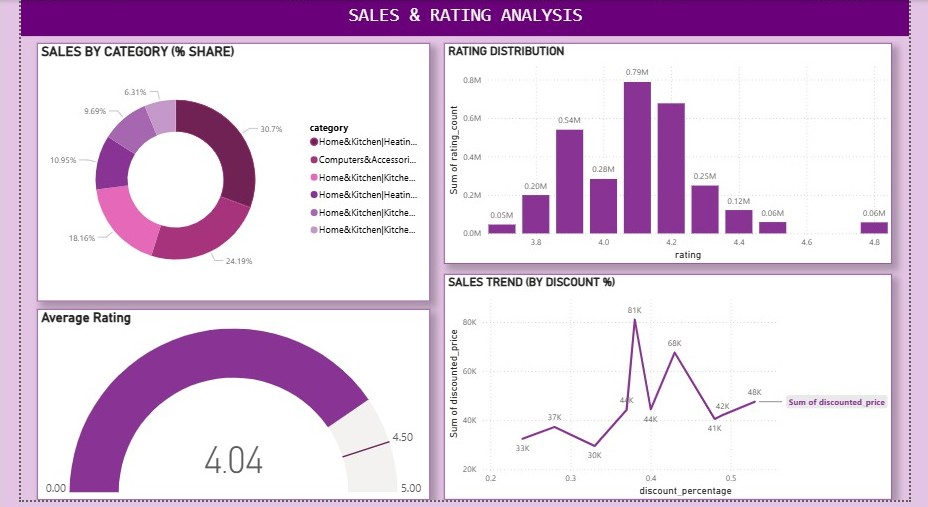

This screenshot's page, from the dashboard's own definition file:
{"tool":"powerbi","page":{"name":"Page 2","canvas":[1280,720],"ordinal":1},"visuals":[{"type":"lineChart","title":"SALES TREND (BY DISCOUNT %)","fields":{"Y":["Sum(amazon_sales csv.discounted_price)"],"Category":["amazon_sales csv.discount_percentage"]},"box":[609.1,394.6,645.1,325.4],"z":0},{"type":"clusteredColumnChart","title":"RATING DISTRIBUTION","fields":{"Category":["amazon_sales csv.rating"],"Y":["Sum(amazon_sales csv.rating_count)"]},"box":[609.1,61.9,645.1,318.2],"z":1000},{"type":"donutChart","title":"SALES BY CATEGORY (% SHARE)","fields":{"Category":["amazon_sales csv.category"],"Y":["Avg(amazon_sales csv.actual_price)"]},"box":[23,61.9,565.9,371.5],"z":2000},{"type":"gauge","fields":{"Y":["amazon_sales csv.Average Rating"]},"box":[23,445,565.9,275],"z":3000},{"type":"textbox","box":[0,0,1280.2,51.8],"z":4000}]}

Visuals, with their boxes in screenshot pixels (x1, y1, x2, y2), scaled from the page's 1280x720 canvas onto the 928x507 screenshot:
"SALES TREND (BY DISCOUNT %)" lineChart: (left=442, top=278, right=909, bottom=506)
"RATING DISTRIBUTION" clusteredColumnChart: (left=442, top=44, right=909, bottom=268)
"SALES BY CATEGORY (% SHARE)" donutChart: (left=17, top=44, right=427, bottom=305)
gauge - amazon_sales csv.Average Rating: (left=17, top=313, right=427, bottom=506)
textbox: (left=0, top=0, right=927, bottom=36)
